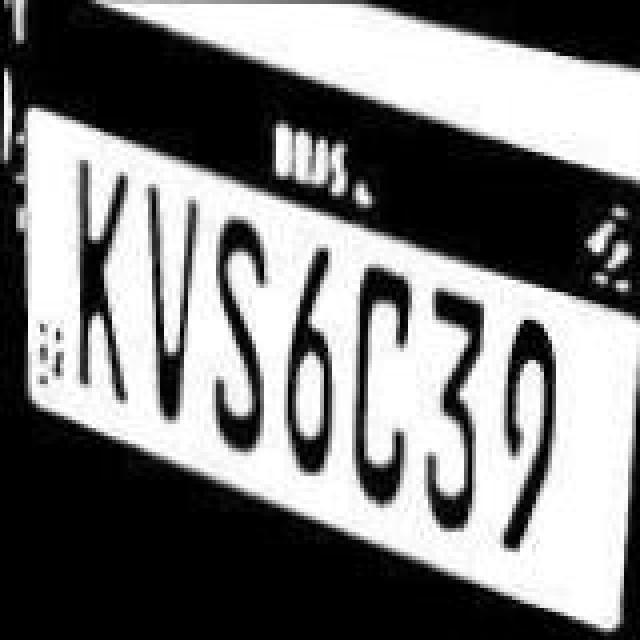3: (420, 270, 488, 538)
6: (282, 250, 350, 474)
9: (500, 308, 568, 556)
C: (346, 264, 418, 504)
K: (70, 156, 138, 396)
S: (202, 210, 278, 462)
V: (140, 182, 212, 434)
